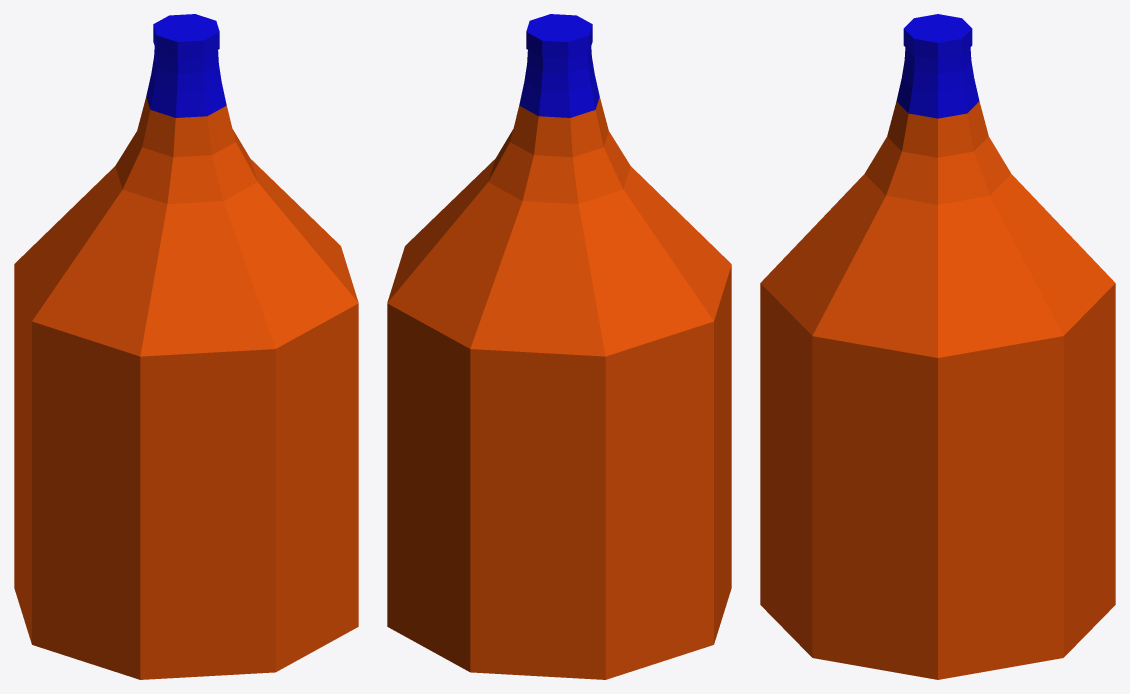
File: Detergente.fbx
The picture shows the model from 3 angles, left to right: view 1: azimuth 30°, elevation 25°; view 2: azimuth 150°, elevation 25°; view 3: azimuth 270°, elevation 25°; orthographic projection.
Parts seen in each view (by area): view 1: Cylinder.086; view 2: Cylinder.086; view 3: Cylinder.086.
Part boxes in pixels (left/top/right/bottom): Cylinder.086: left=14, top=14, right=358, bottom=679; Cylinder.086: left=387, top=14, right=731, bottom=679; Cylinder.086: left=760, top=14, right=1115, bottom=679.
Bounding box in the file's own units: 25.17 × 45.07 × 25.17.
